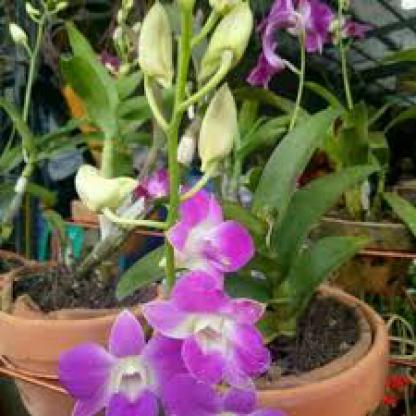ANGGREK: (101, 149, 324, 415)
